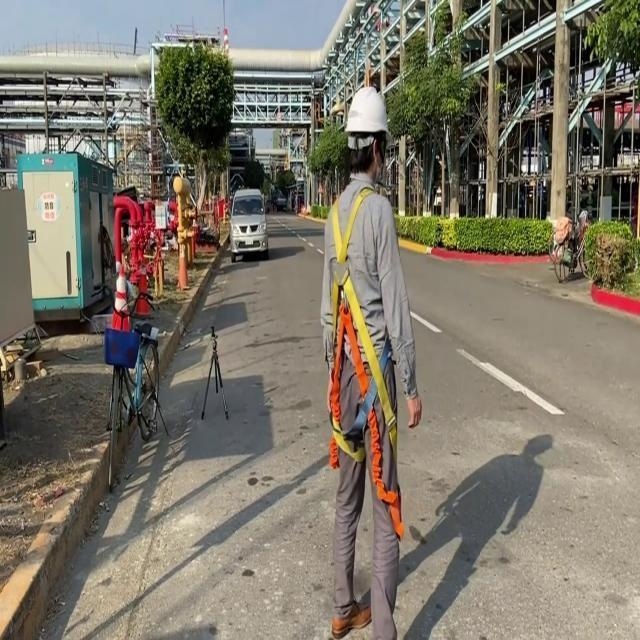Arnes_seguridad: (317, 189, 408, 473)
